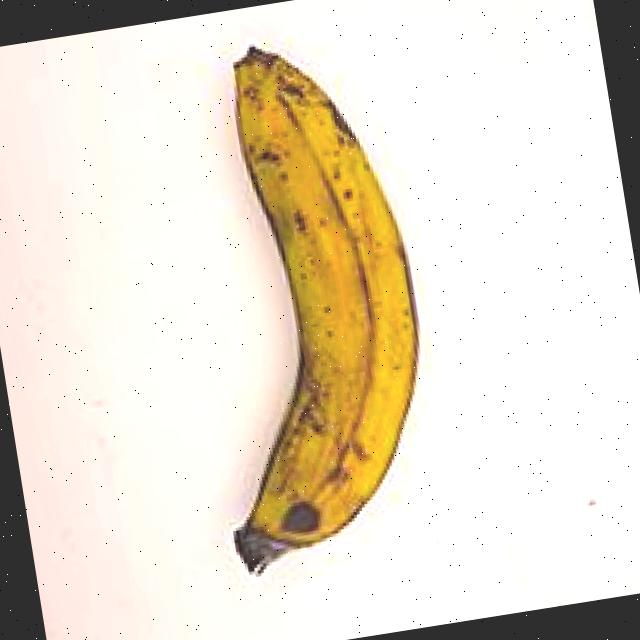Overripe: (83, 0, 521, 619)
